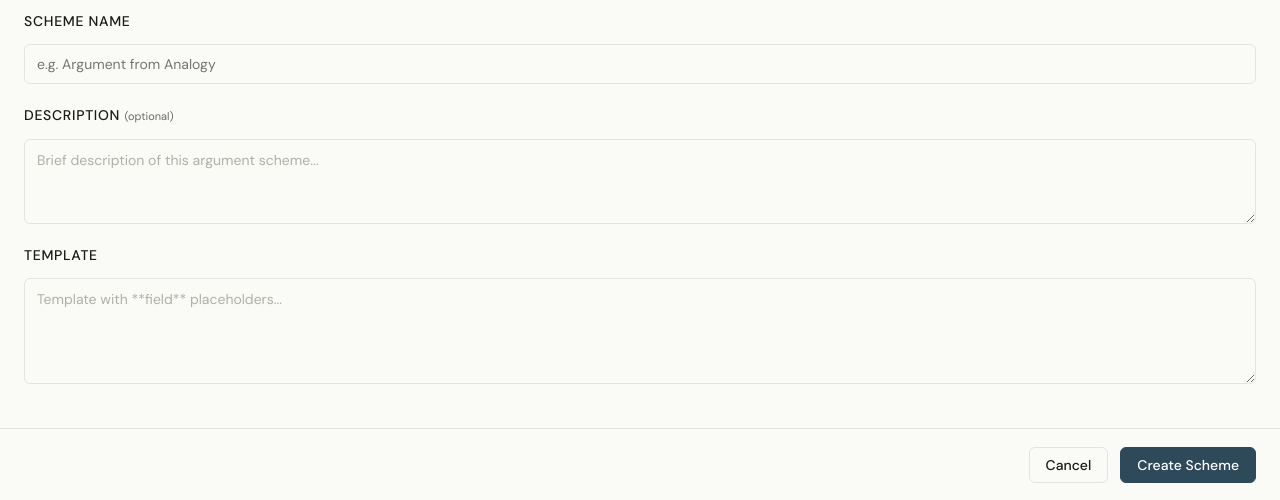
Test case: AddSchemeForm › disables buttons while submitting
The image size is (1280, 500).
Type "Test" into the field labelled "Scheme name" at (640, 64), box [24,44,1256,84]
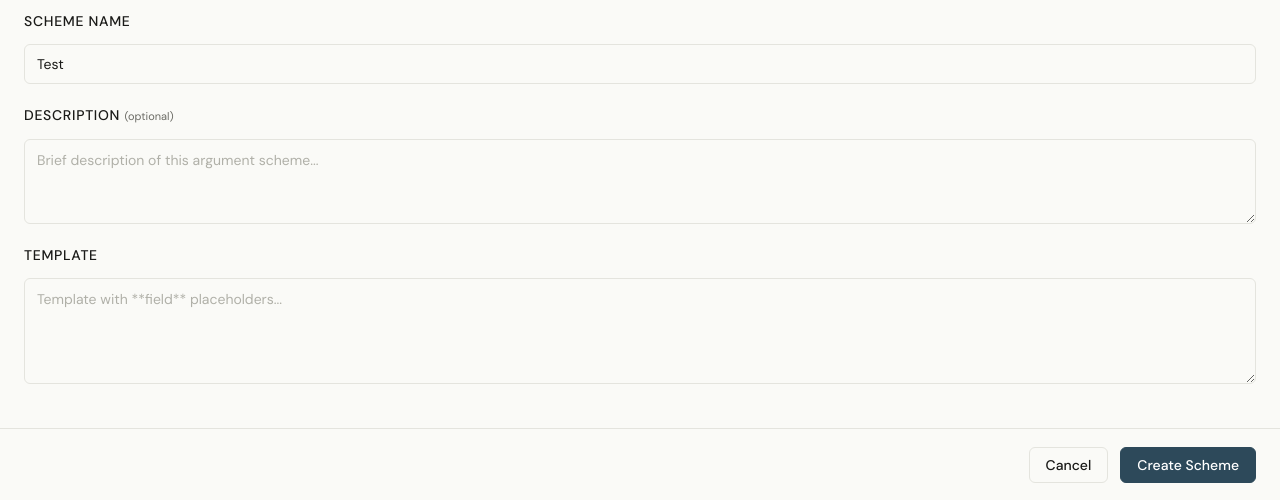
Type "**X**" into the text box labelled "Template" at (640, 331), box [24,278,1256,384]
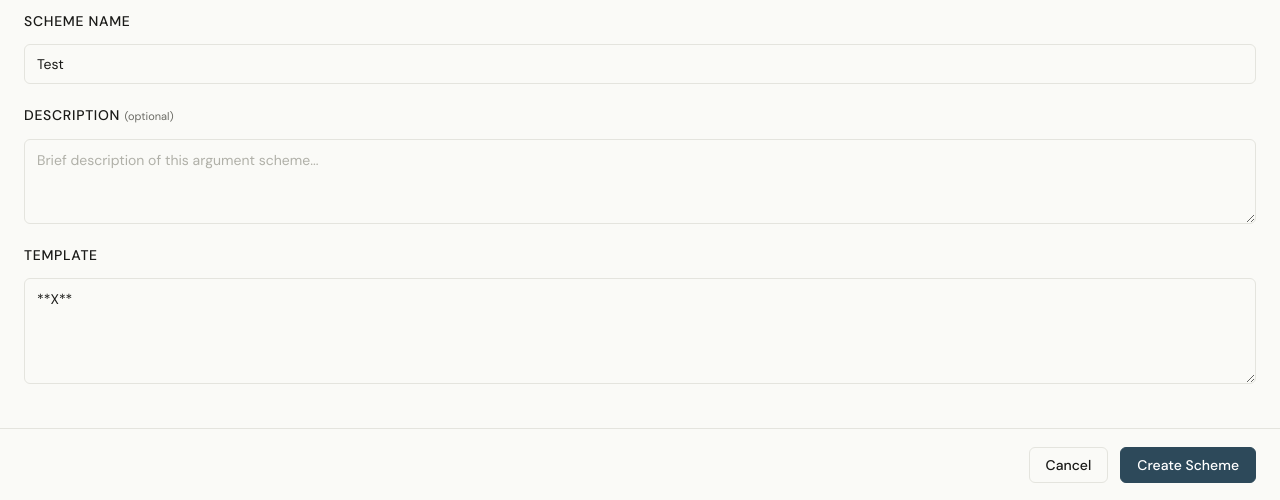
Click the button "Create Scheme" at (1188, 465), box [1120,447,1256,483]
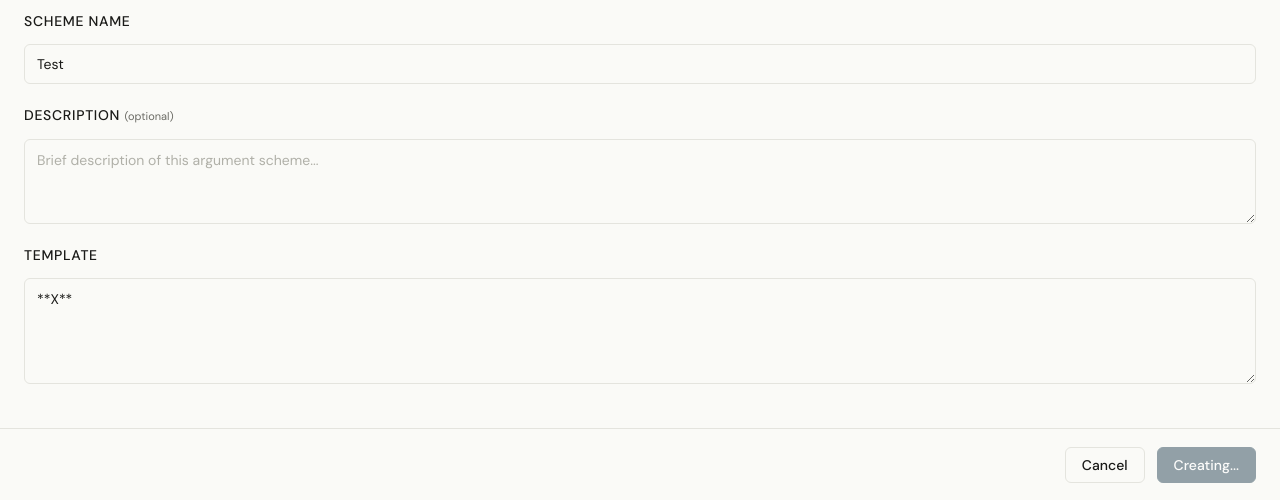
expect the button "Creating..." is disabled: met, box [1157,447,1256,483]
expect the button "Cancel" is disabled: met, box [1065,447,1145,483]
